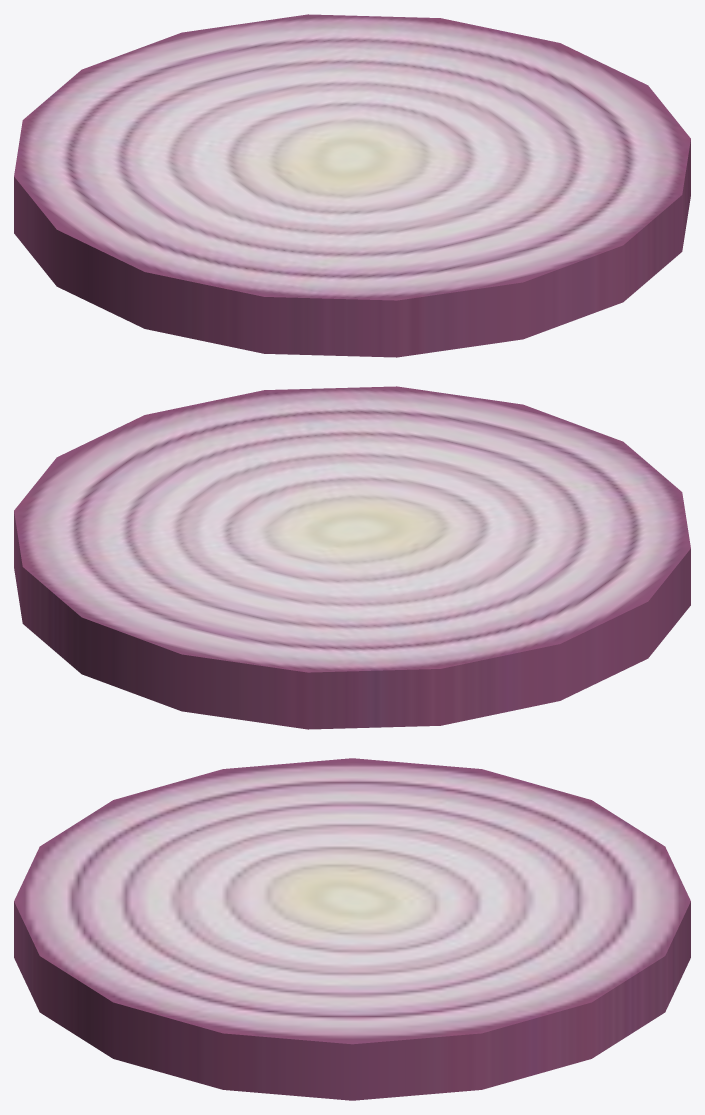
Rendered from OnionSlice.glb.
3 views of the same model, one above another, from view 1: azimuth 30°, elevation 25°; view 2: azimuth 150°, elevation 25°; view 3: azimuth 270°, elevation 25° (orthographic).
Visible parts, largest first — view 1: OnionSlice; view 2: OnionSlice; view 3: OnionSlice.
Boxes of the visible parts, bbox=[...] form: OnionSlice: bbox=[14, 14, 690, 357]; OnionSlice: bbox=[14, 386, 690, 729]; OnionSlice: bbox=[14, 758, 690, 1100].
Size of the model in its own units: 0.3521 by 0.0324 by 0.3521.
Materials: 1 (1 with a texture image).
